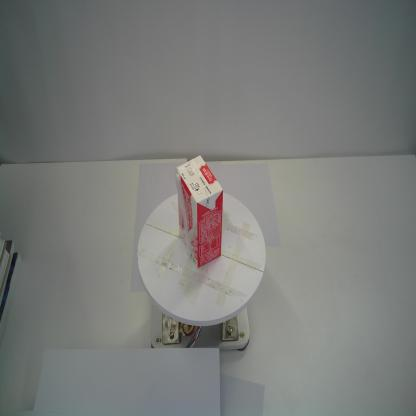Milk: (172, 154, 224, 270)
